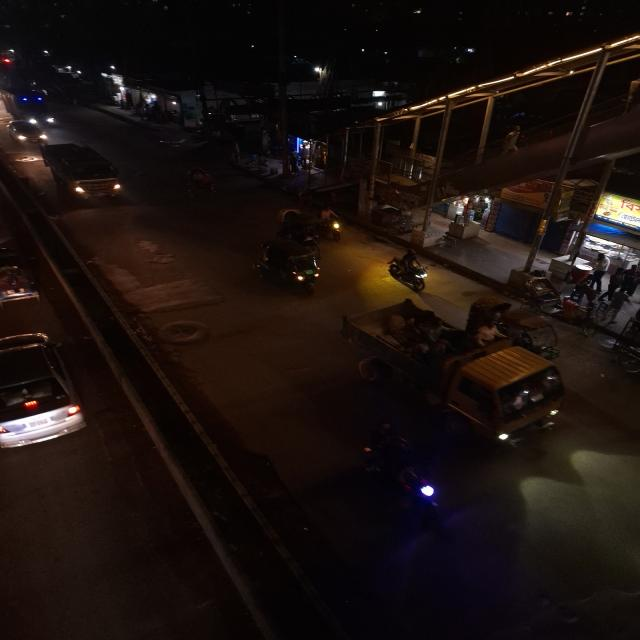car: (0, 326, 88, 454), (39, 140, 128, 202), (2, 118, 50, 146)
cng: (250, 237, 328, 295)
motorcycle: (354, 418, 456, 526), (384, 249, 436, 296), (319, 207, 346, 241)
pickup_van: (335, 294, 583, 448)
rickshaw: (272, 206, 344, 243), (0, 256, 44, 308), (176, 165, 222, 202)
truck: (10, 85, 59, 127)
